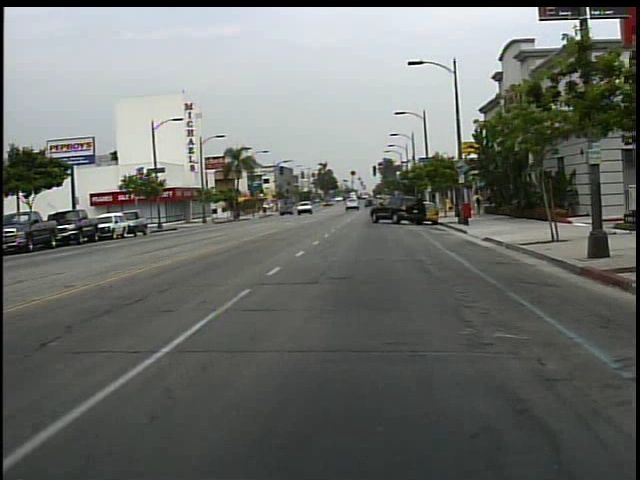person: (474, 189, 488, 219)
